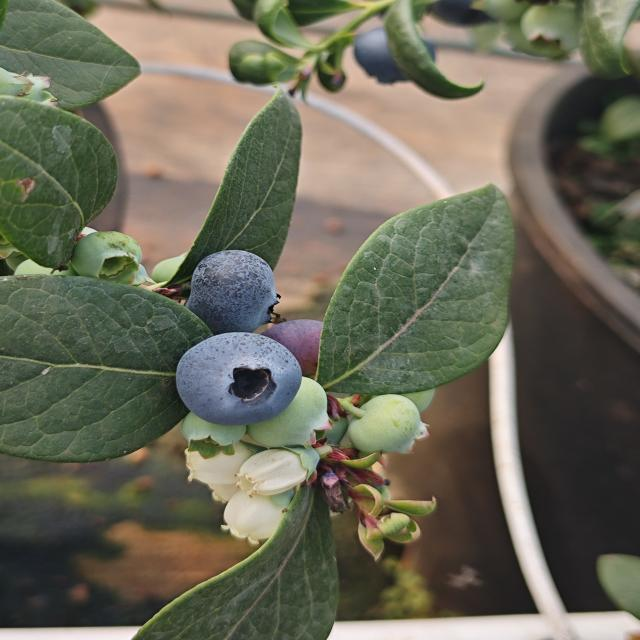ripe: (173, 330, 304, 427), (183, 248, 283, 335), (271, 309, 350, 376), (357, 34, 443, 88)
